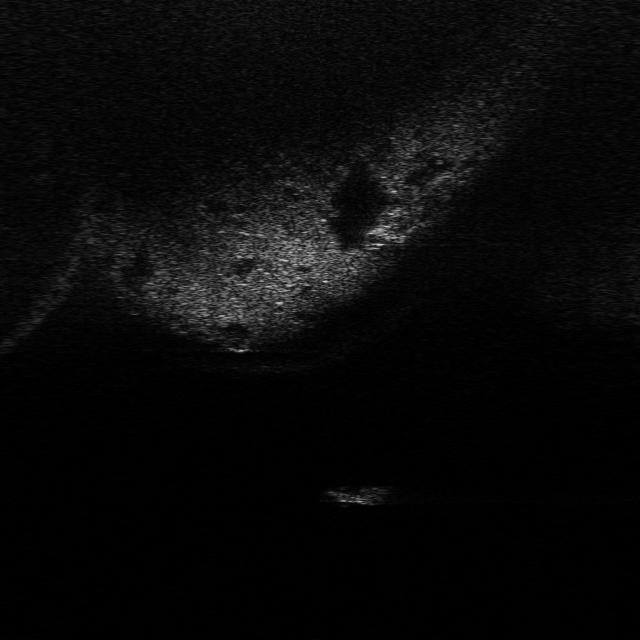cube: (319, 479, 393, 509)
